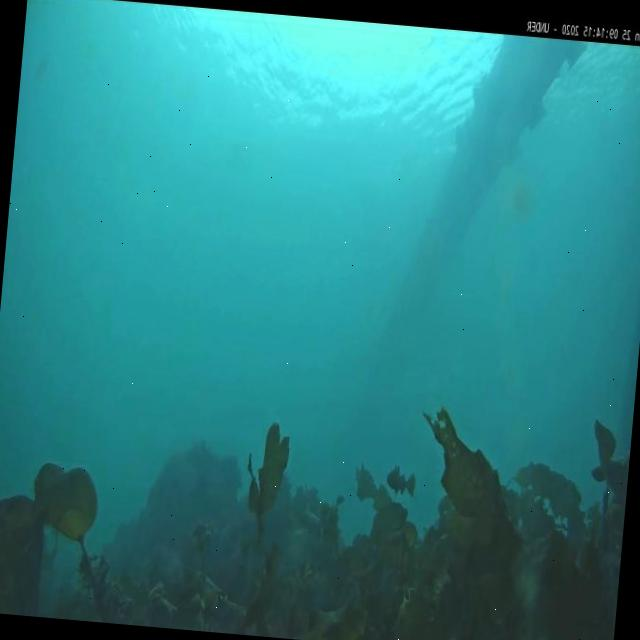fish: (382, 462, 418, 492)
